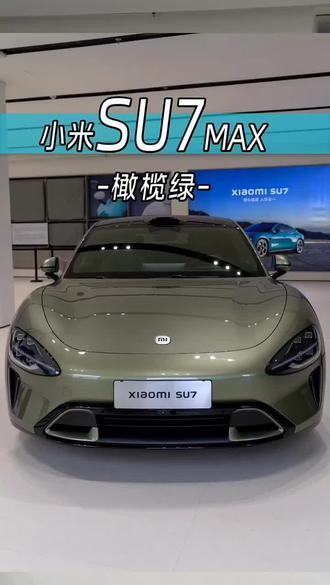su7: (15, 217, 330, 451)
